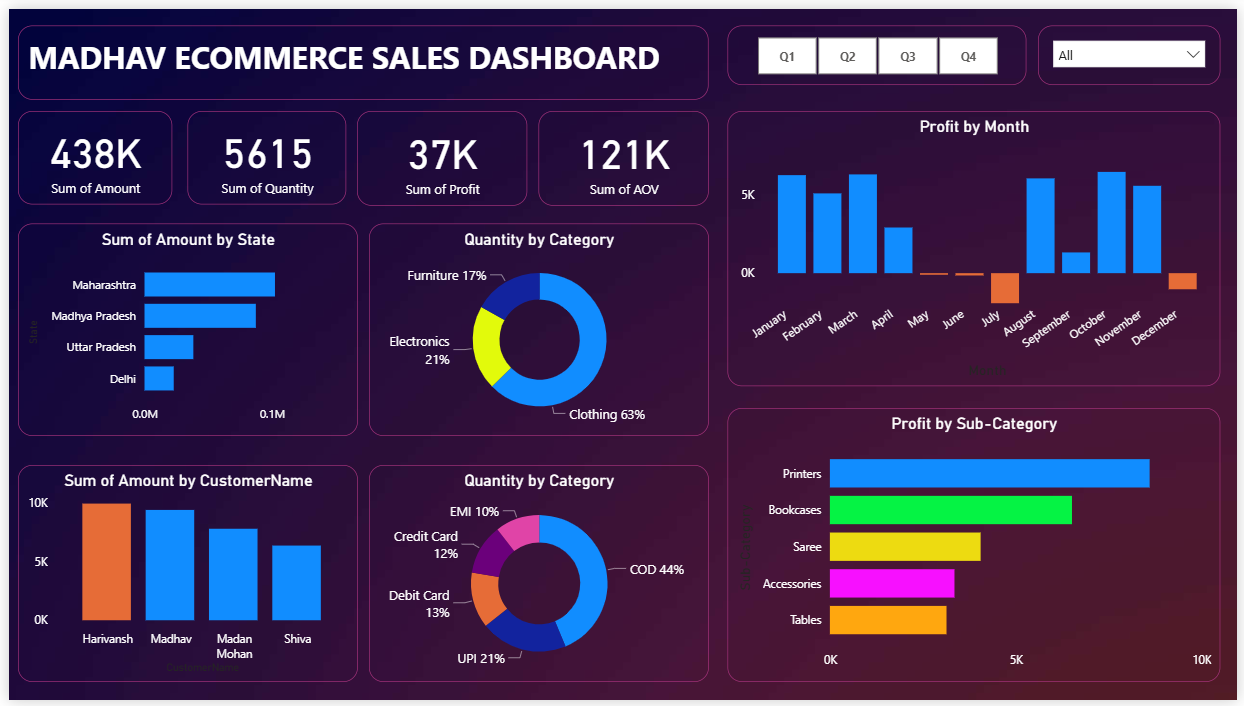

What the dashboard file says about the page in this screenshot:
{"tool":"powerbi","page":{"name":"Page 1","canvas":[1280,720],"ordinal":0},"visuals":[{"type":"textbox","box":[9.1,16.7,719.5,77.4],"z":0},{"type":"columnChart","title":"Profit by Month","fields":{"Category":["Orders.Year Hierarchy.Month"],"Y":["Details.Profit"]},"box":[748.3,106.3,513.1,286.9],"z":1000},{"type":"barChart","title":"Profit by Sub-Category","fields":{"Category":["Details.Sub-Category"],"Y":["Details.Profit"]},"box":[748.3,415.9,513.1,285.4],"z":2000},{"type":"donutChart","title":"Quantity by Category","fields":{"Category":["Details.Category"],"Y":["Details.Quantity"]},"box":[374.9,223.1,353.7,221.6],"z":3000},{"type":"donutChart","title":"Quantity by Category","fields":{"Y":["Details.Quantity"],"Category":["Details.PaymentMode"]},"box":[374.9,475.1,353.7,226.2],"z":4000},{"type":"card","fields":{"Values":["Details.Amount"]},"box":[9.1,106.3,160.9,97.1],"z":5000},{"type":"card","fields":{"Values":["Details.Quantity"]},"box":[186.7,106.3,165.5,97.1],"z":6000},{"type":"card","fields":{"Values":["Details.Profit"]},"box":[362.8,106.3,177.6,98.7],"z":7000},{"type":"card","fields":{"Values":["Details.AOV"]},"box":[551,106.3,177.6,98.7],"z":8000},{"type":"barChart","title":"Sum of Amount by State","fields":{"Y":["Details.Amount"],"Category":["Orders.State"]},"box":[9.1,223.1,353.7,221.6],"z":9000},{"type":"columnChart","fields":{"Category":["Orders.CustomerName"],"Y":["Details.Amount"]},"box":[9.1,475.1,353.7,226.2],"z":10000},{"type":"slicer","fields":{"Values":["Orders.Year Hierarchy.Quarter"]},"box":[748.3,16.7,311.2,62.2],"z":11000},{"type":"slicer","fields":{"Values":["Orders.State"]},"box":[1071.7,16.7,189.7,62.2],"z":12000}]}

Visuals, with their boxes in screenshot pixels (x1, y1, x2, y2), scaled from the page's 1280x720 canvas onto the 1244x706 screenshot:
textbox: {"left": 9, "top": 16, "right": 708, "bottom": 92}
"Profit by Month" columnChart: {"left": 727, "top": 104, "right": 1226, "bottom": 386}
"Profit by Sub-Category" barChart: {"left": 727, "top": 408, "right": 1226, "bottom": 688}
"Quantity by Category" donutChart: {"left": 364, "top": 219, "right": 708, "bottom": 436}
"Quantity by Category" donutChart: {"left": 364, "top": 466, "right": 708, "bottom": 688}
card - Details.Amount: {"left": 9, "top": 104, "right": 165, "bottom": 199}
card - Details.Quantity: {"left": 181, "top": 104, "right": 342, "bottom": 199}
card - Details.Profit: {"left": 353, "top": 104, "right": 525, "bottom": 201}
card - Details.AOV: {"left": 536, "top": 104, "right": 708, "bottom": 201}
"Sum of Amount by State" barChart: {"left": 9, "top": 219, "right": 353, "bottom": 436}
columnChart - Orders.CustomerName x Details.Amount: {"left": 9, "top": 466, "right": 353, "bottom": 688}
slicer - Orders.Year Hierarchy.Quarter: {"left": 727, "top": 16, "right": 1030, "bottom": 77}
slicer - Orders.State: {"left": 1042, "top": 16, "right": 1226, "bottom": 77}
